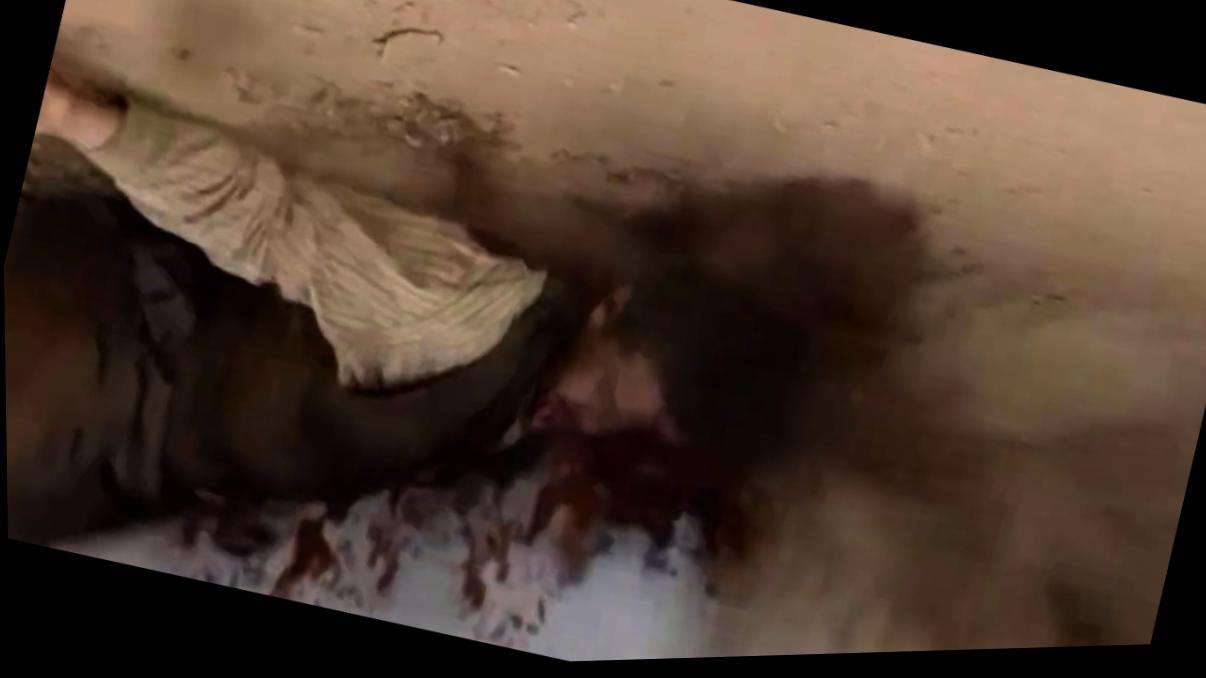Fire: (112, 263, 806, 656), (1046, 588, 1118, 654)
